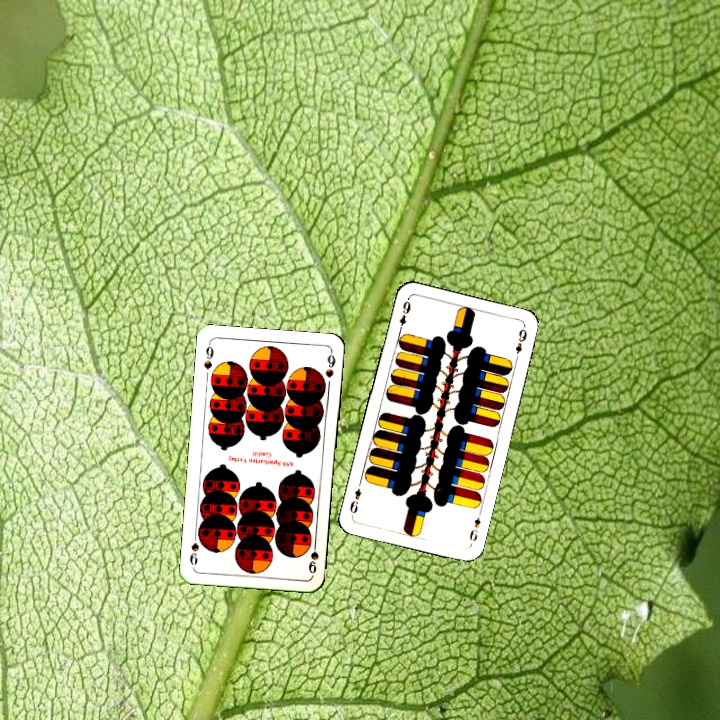E9: (395, 295, 413, 335), (465, 513, 483, 544)
S9: (304, 536, 321, 576), (200, 339, 216, 372)
